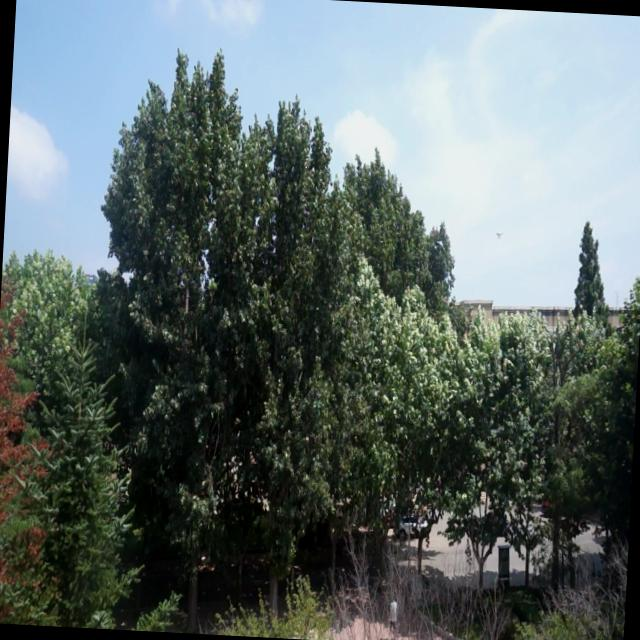drone: (493, 224, 508, 243)
